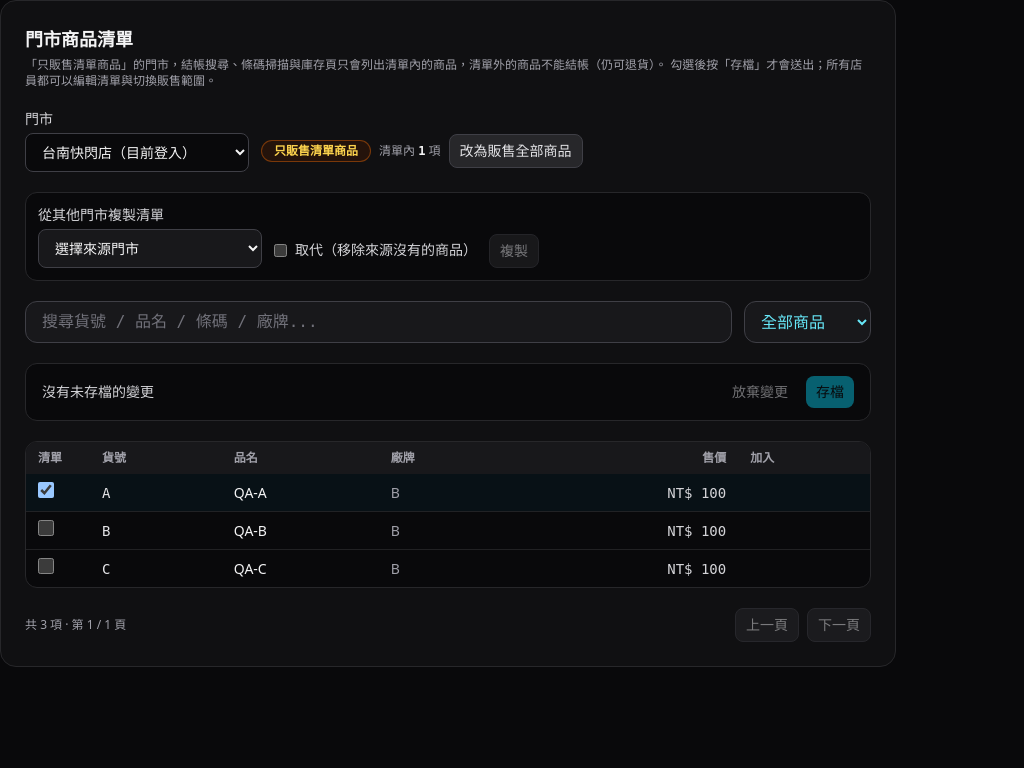
Test: StoreProductListPanel › asks before switching store with unsaved ticks
Expected: the text "QA-B" is shown, [222, 512, 379, 550]
Click the checkbox named "B 加入清單". click: (46, 528)
box: [38, 520, 54, 536]
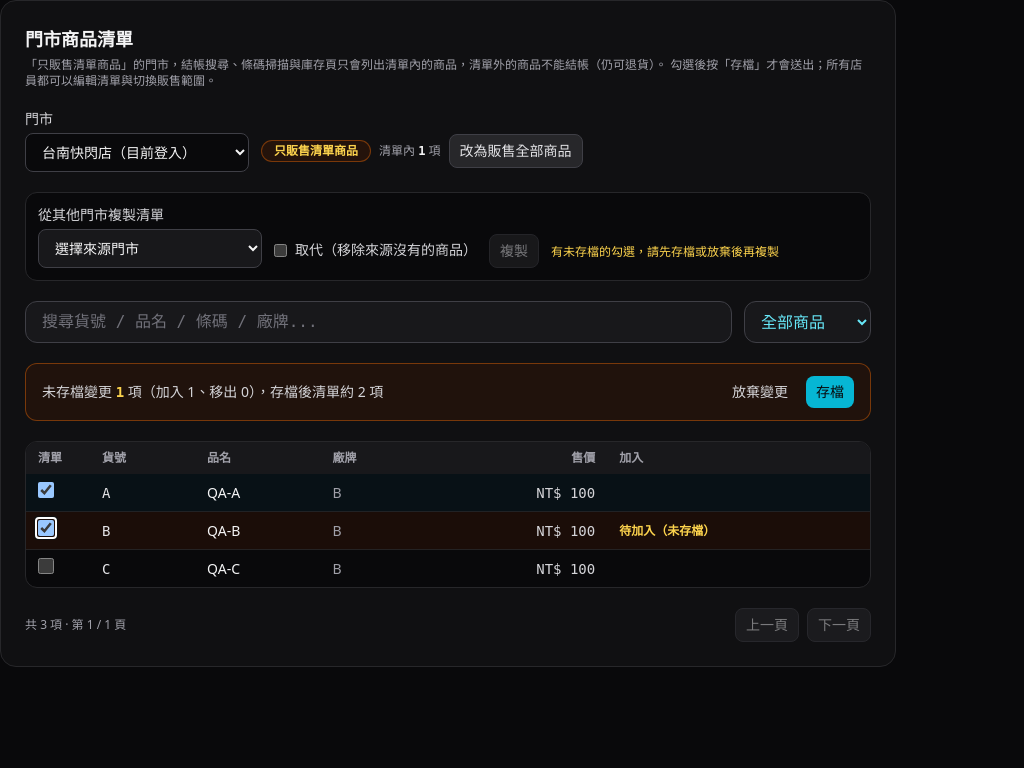
Expected: the button "複製" is disabled, [489, 234, 539, 268]
Select "奇可門市" in the dropdown named "選擇門市". click: (137, 152)
box: [25, 133, 249, 172]
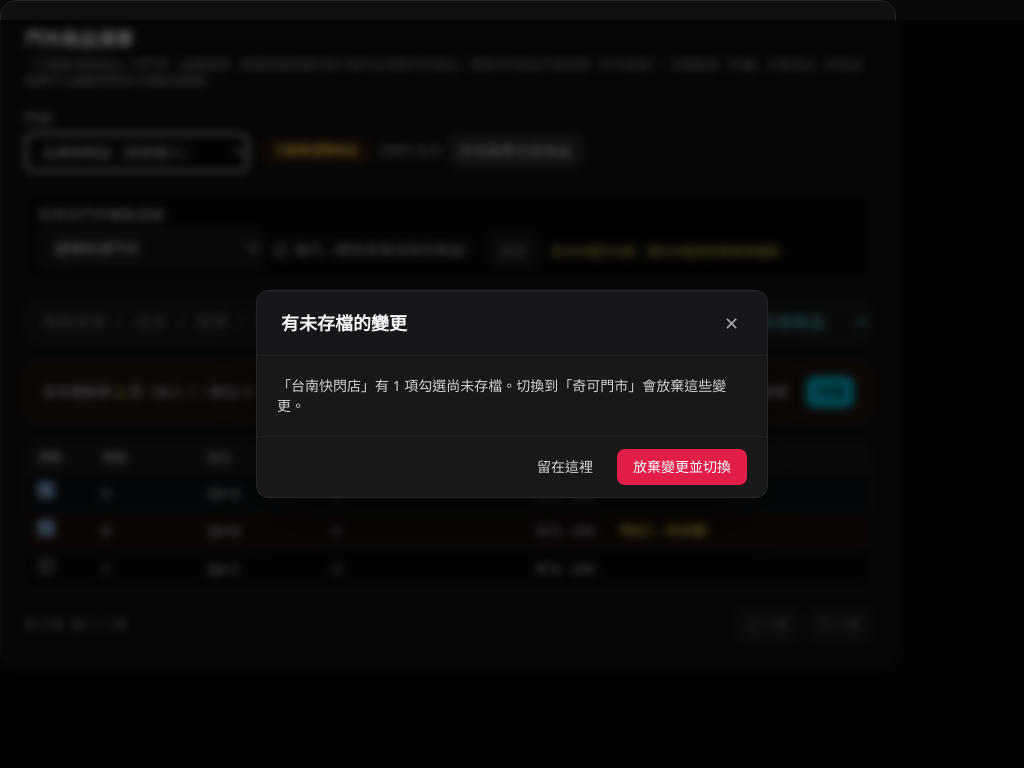
Click the button "留在這裡". click: (565, 467)
box: [521, 449, 609, 485]
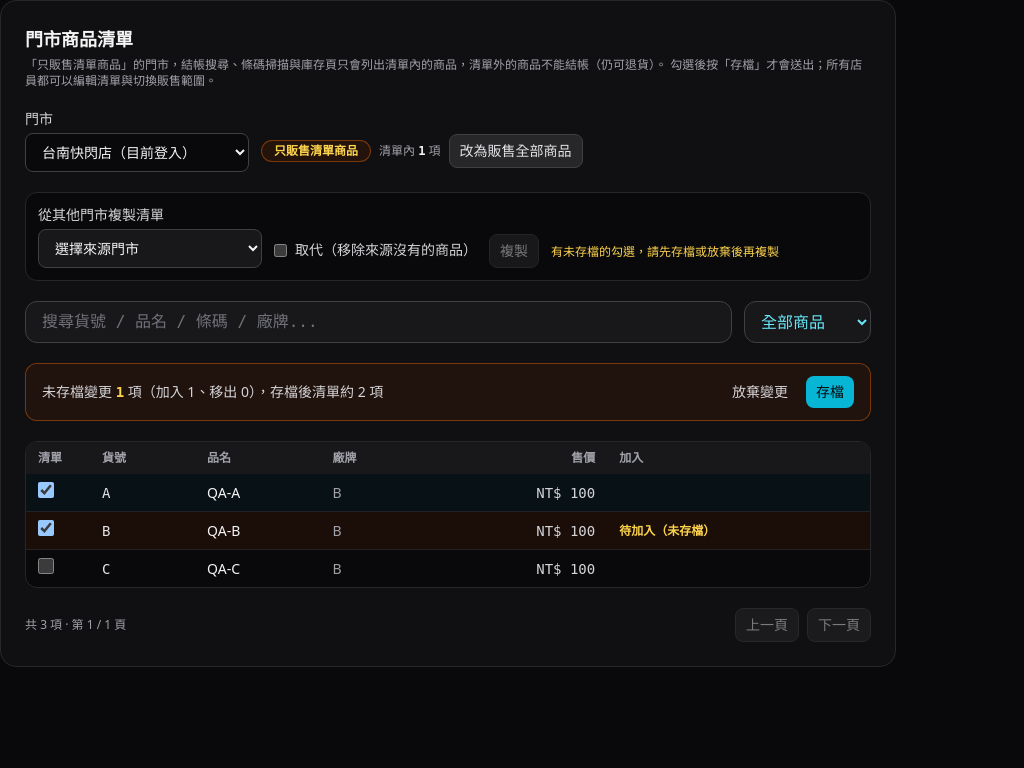
Result: the checkbox named "B 移出清單" is checked at [38, 520, 54, 536]
Select "奇可門市" in the dropdown named "選擇門市". click: (137, 152)
box: [25, 133, 249, 172]
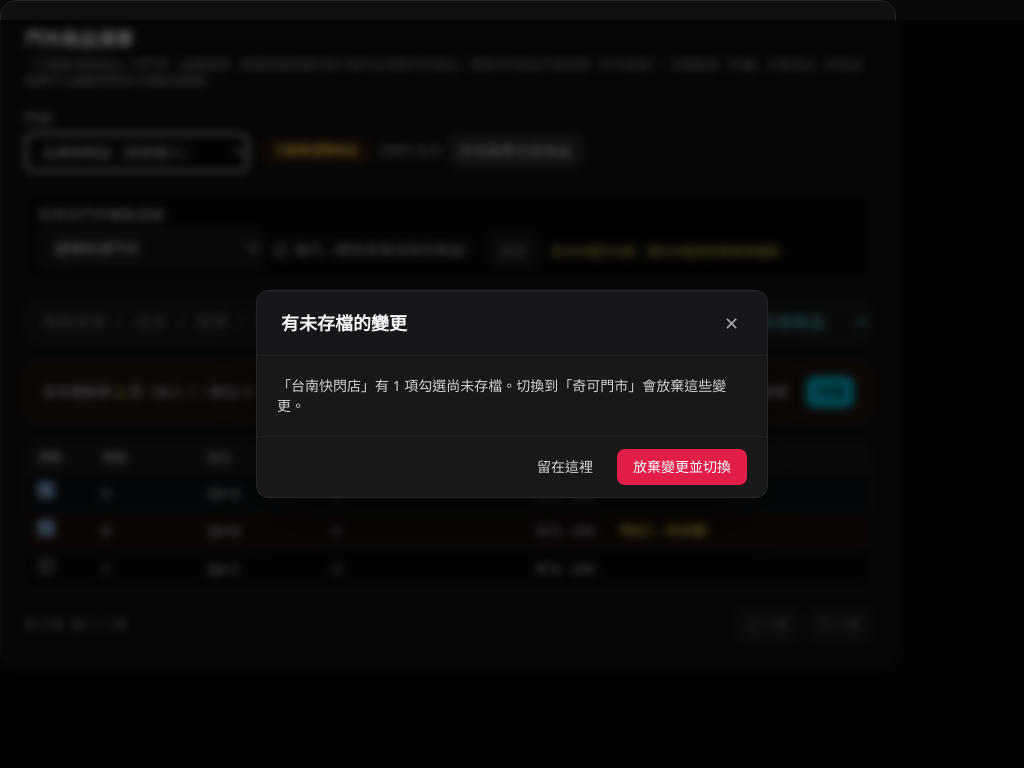
Click the button "放棄變更並切換". click: (682, 467)
box: [617, 449, 747, 485]
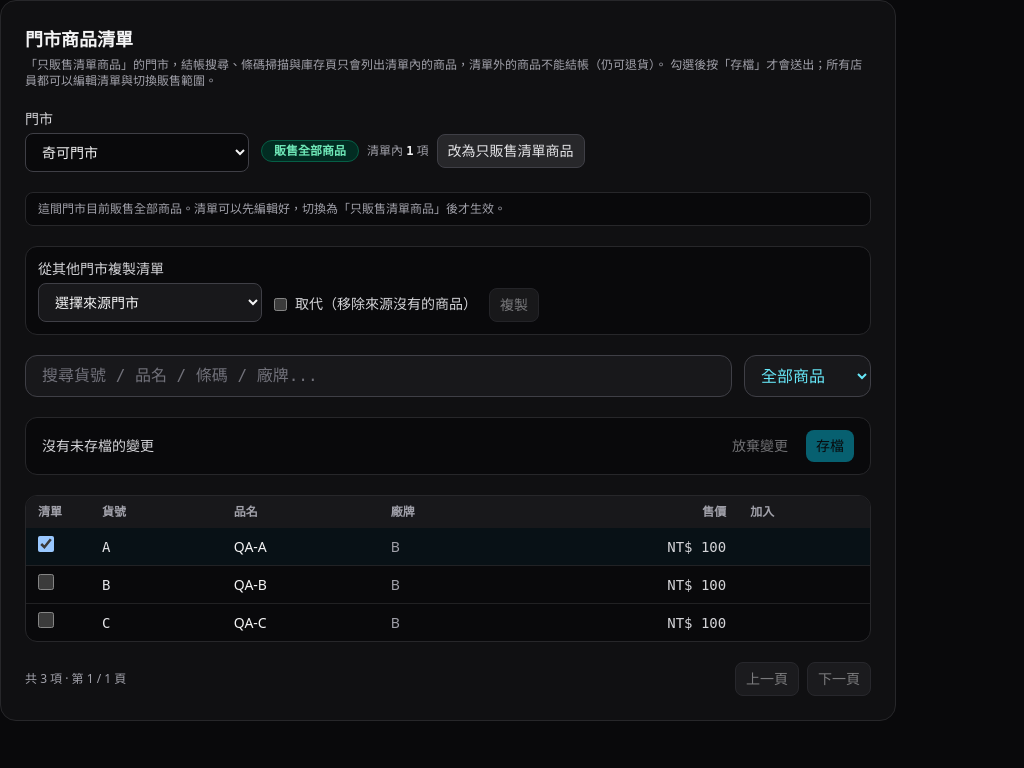
Result: the element with test id "store-product-save-bar" shows "沒有未存檔的變更" at [42, 436, 154, 455]
